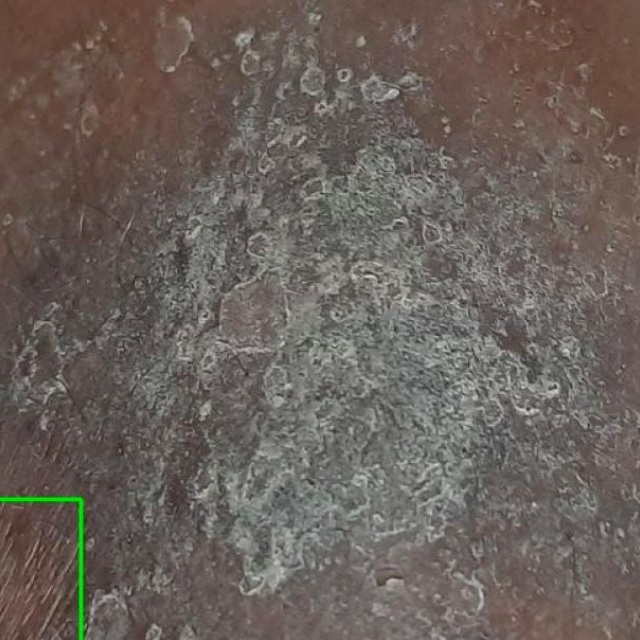Tinea Corporis: (0, 499, 80, 639)
